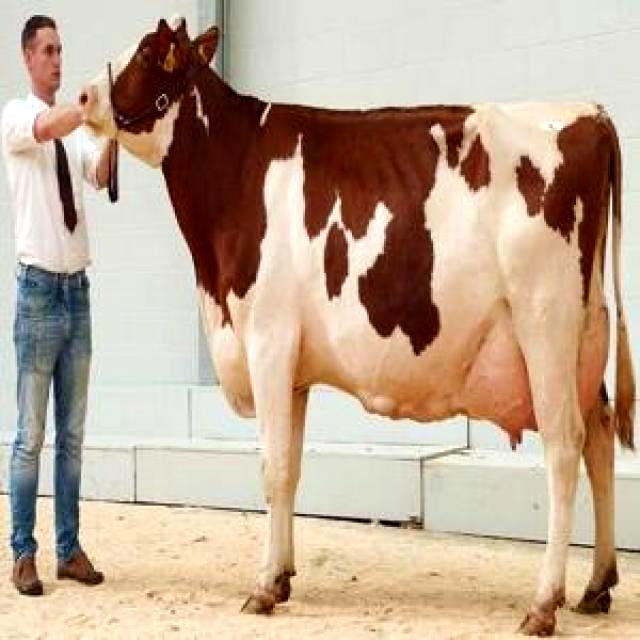COW: (82, 20, 634, 636)
